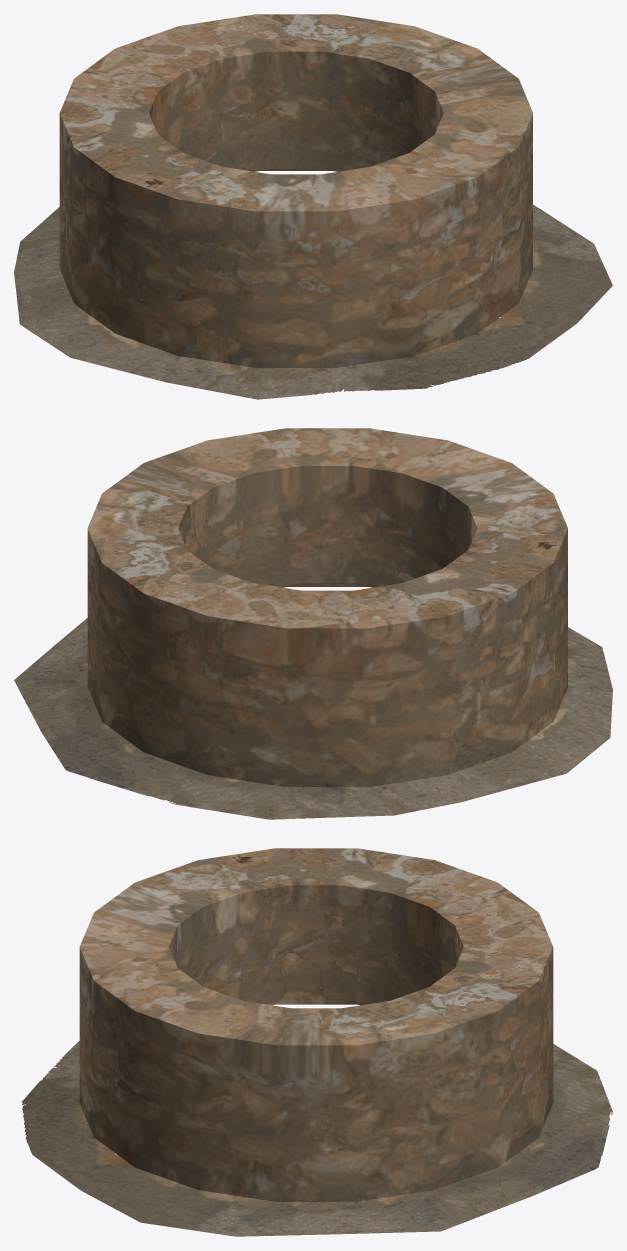
File: OU_AR_House_Well_06_D.fbx
3 renders of one model, top to bottom at view 1: azimuth 30°, elevation 25°; view 2: azimuth 150°, elevation 25°; view 3: azimuth 270°, elevation 25°, orthographic.
Visible parts, largest first — view 1: Tube001; view 2: Tube001; view 3: Tube001.
Part boxes in pixels (box(x1,y1,x2,y2)): Tube001: box(14, 14, 612, 399); Tube001: box(14, 428, 612, 819); Tube001: box(21, 848, 612, 1236).
Size of the model in its own units: 274 by 83.72 by 277.
Materials: 1 (1 with a texture image).
